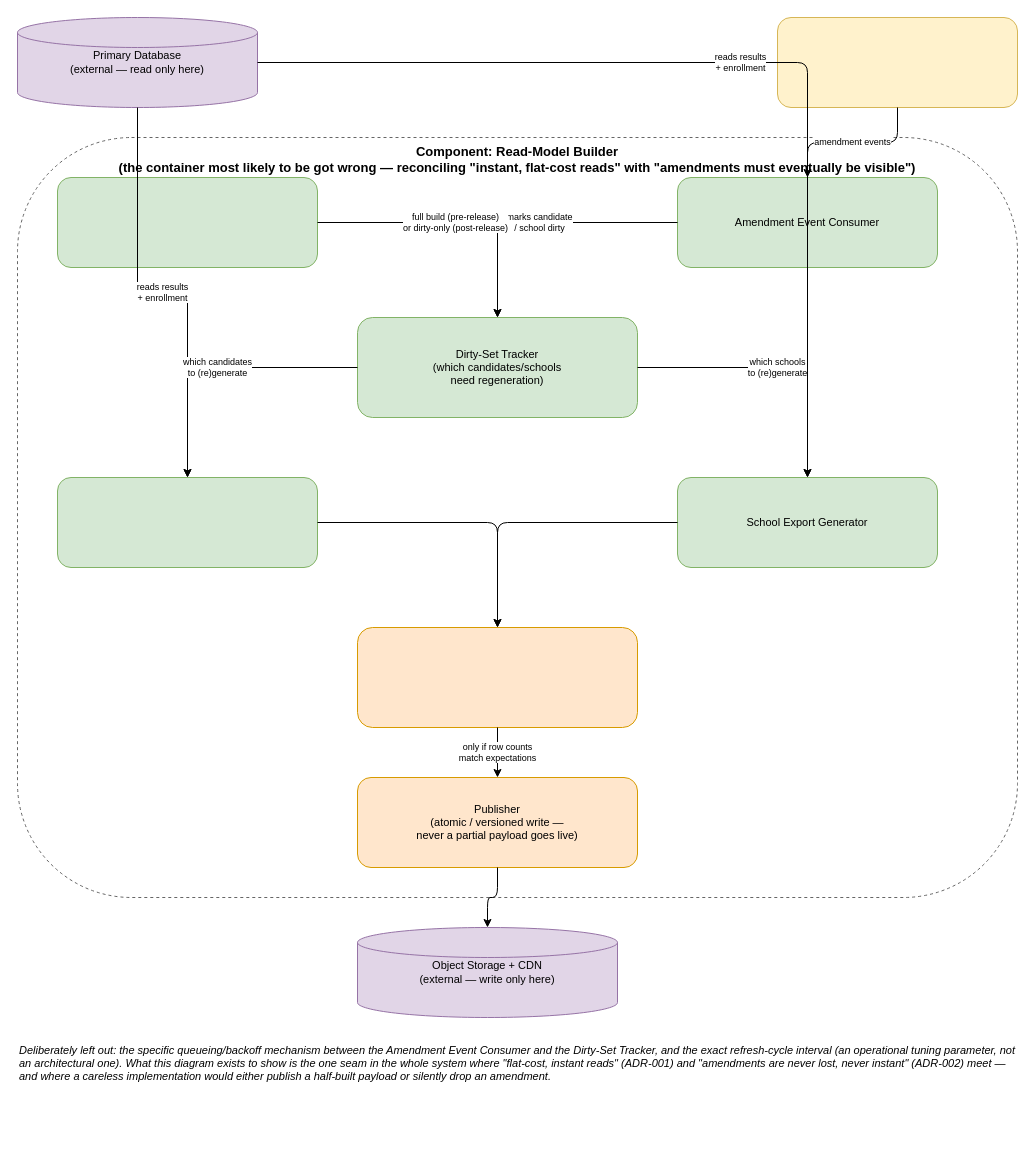
Image size: 1035x1155. Some labels were removed from this diagram. The box of each missing label's shape, as (x1, y1, x2, y2) in pixels:
Candidate Payload Generator: (56, 476, 318, 568)
Consistency Checker (row-count sanity check before publish): (356, 626, 638, 728)
Message Broker (external — amendment events): (776, 16, 1018, 108)
Refresh Scheduler (pre-release full build; post-release scheduled ticks): (56, 176, 318, 268)
